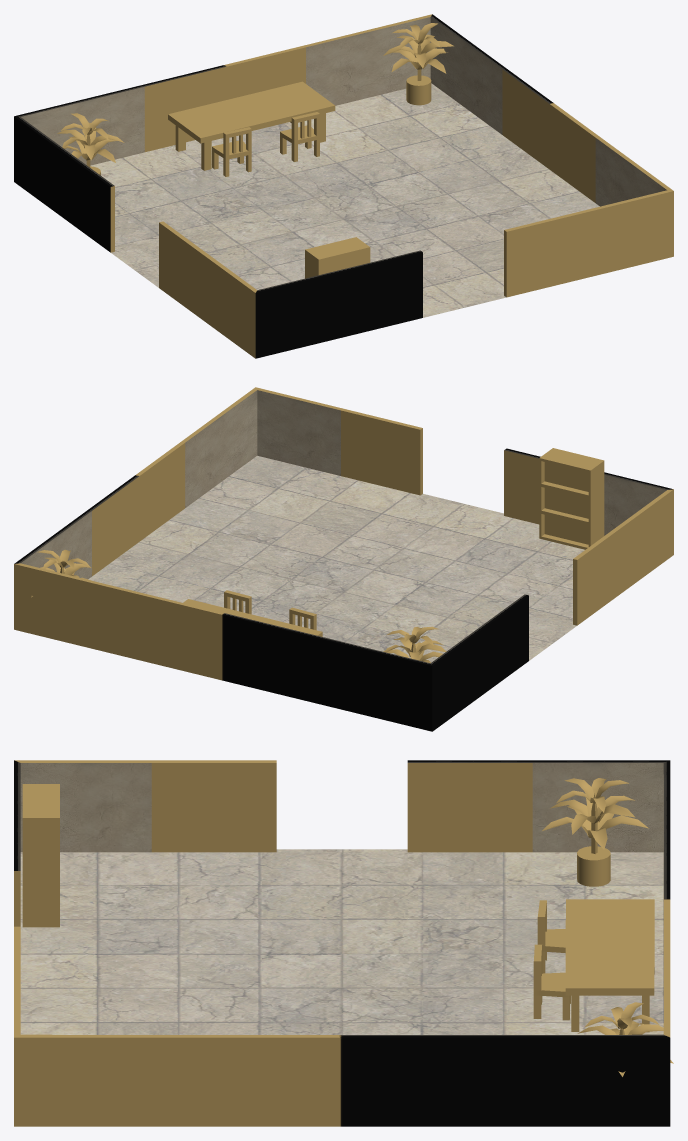
File: Room_1Exit03_Type01.fbx
The picture shows the model from 3 angles, top to bottom: view 1: azimuth 30°, elevation 25°; view 2: azimuth 150°, elevation 25°; view 3: azimuth 270°, elevation 25°; orthographic projection. The views are drawn at different scales.
Parts seen in each view (by area): view 1: Room1x1_2Exits3, Table05, Plant05, BookShelf04, Plant06, Chair06, Chair2; view 2: Room1x1_2Exits3, BookShelf04, Plant06, Table05, Plant05; view 3: Room1x1_2Exits3, Table05, BookShelf04, Plant06, Chair06, Plant05, Chair2.
Part boxes in pixels (x1,y1,x2,y2): Room1x1_2Exits3: [14, 14, 673, 358]; Table05: [168, 81, 335, 170]; Plant05: [383, 23, 453, 105]; BookShelf04: [305, 237, 370, 278]; Plant06: [57, 113, 124, 175]; Chair06: [280, 112, 319, 161]; Chair2: [212, 127, 251, 176]; Room1x1_2Exits3: [14, 387, 673, 731]; BookShelf04: [539, 448, 604, 549]; Plant06: [383, 626, 446, 663]; Table05: [183, 599, 322, 636]; Plant05: [31, 549, 91, 597]; Room1x1_2Exits3: [14, 760, 670, 1126]; Table05: [565, 899, 654, 1032]; BookShelf04: [22, 784, 59, 927]; Plant06: [542, 778, 648, 886]; Chair06: [533, 944, 570, 1020]; Plant05: [577, 1002, 673, 1076]; Chair2: [537, 900, 565, 973].
Bounding box in the file's own units: 10.1 × 1.87 × 10.06.
